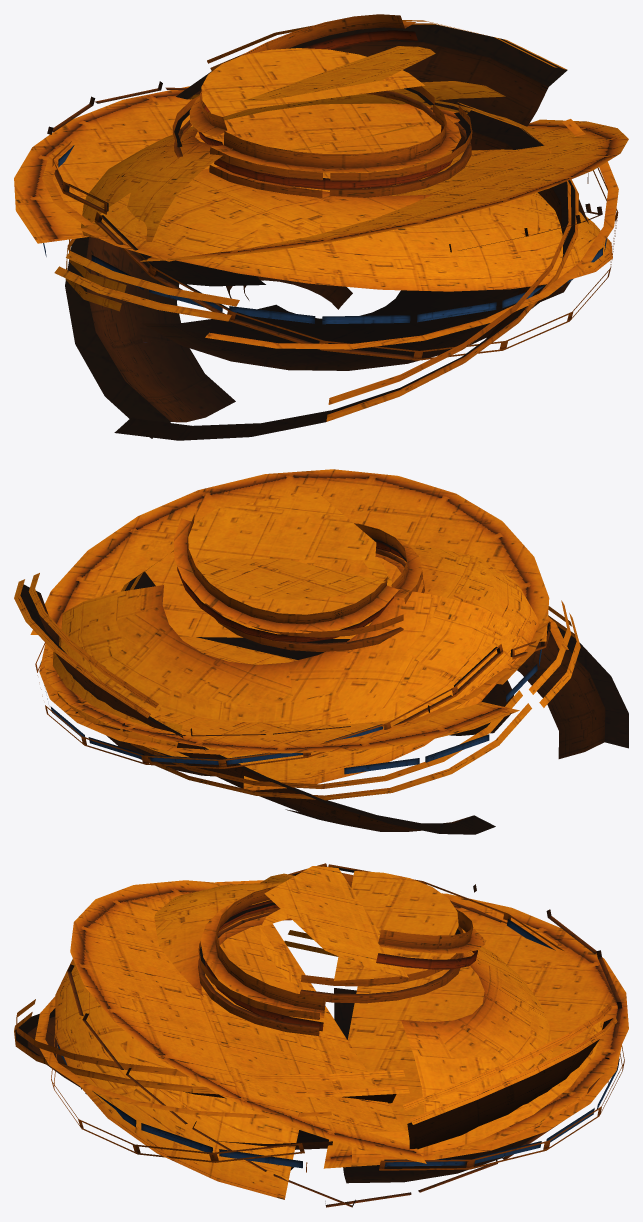
File: MonsterB_Die1.obj
The picture shows the model from 3 angles, top to bottom: view 1: azimuth 30°, elevation 25°; view 2: azimuth 150°, elevation 25°; view 3: azimuth 270°, elevation 25°; orthographic projection. The views are drawn at different scales.
Visible parts, largest first — view 1: Sphere001; view 2: Sphere001; view 3: Sphere001.
Part boxes in pixels (x1,y1,x2,y2): Sphere001: (14,14,628,440); Sphere001: (14,469,628,834); Sphere001: (14,863,628,1207).
Size of the model in its own units: 221 by 119 by 211.
Materials: 1 (1 with a texture image).
